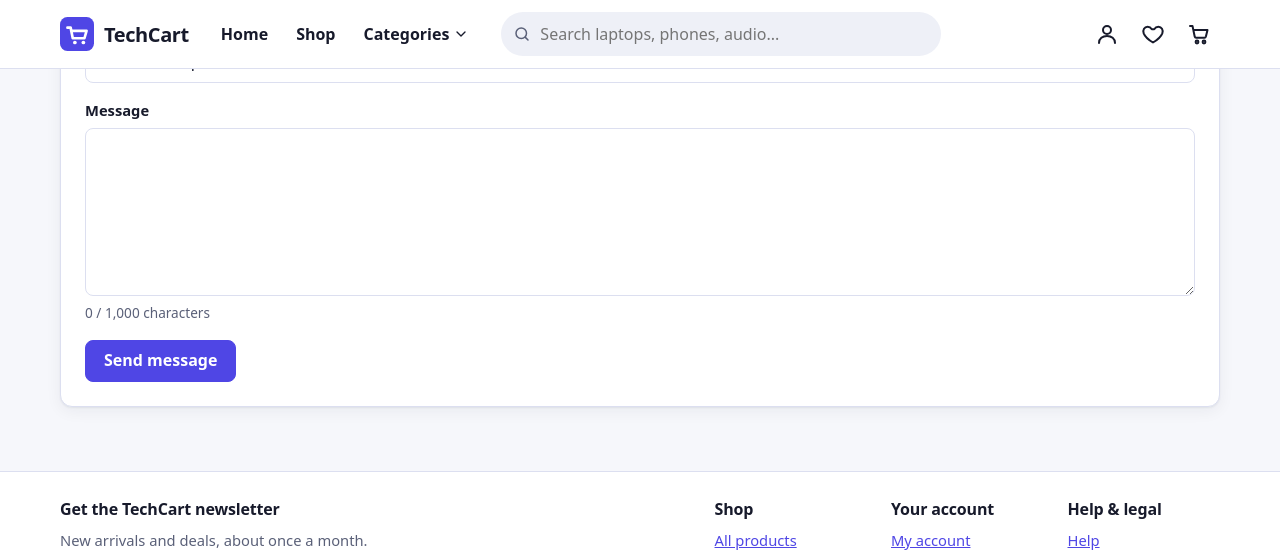
Test: help page: contact form › shows an error for every empty field and focuses the first
The width and height of the screenshot is (1280, 555).
(page scrolled)
Step 1. Click the button "Send message" → (161, 360), box [85,340,236,382]
(page scrolled)
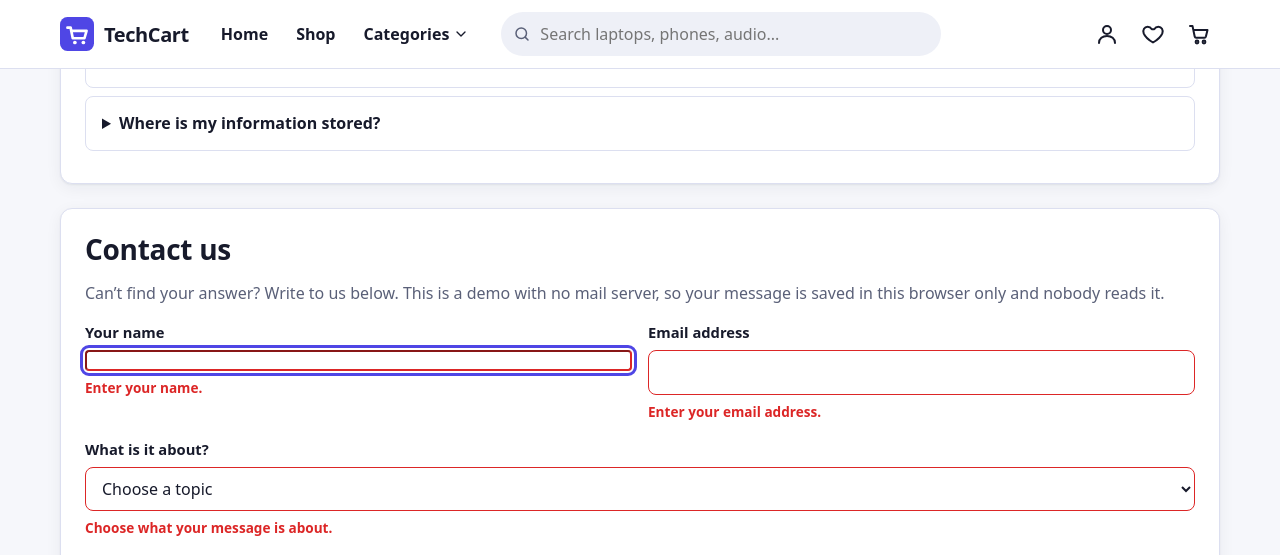
Result: the text "Enter your name." is shown at [85,378,202,397]
Result: the text "Enter your email address." is shown at [648,402,821,421]
Result: the text "Choose what your message is about." is shown at [85,518,332,537]
